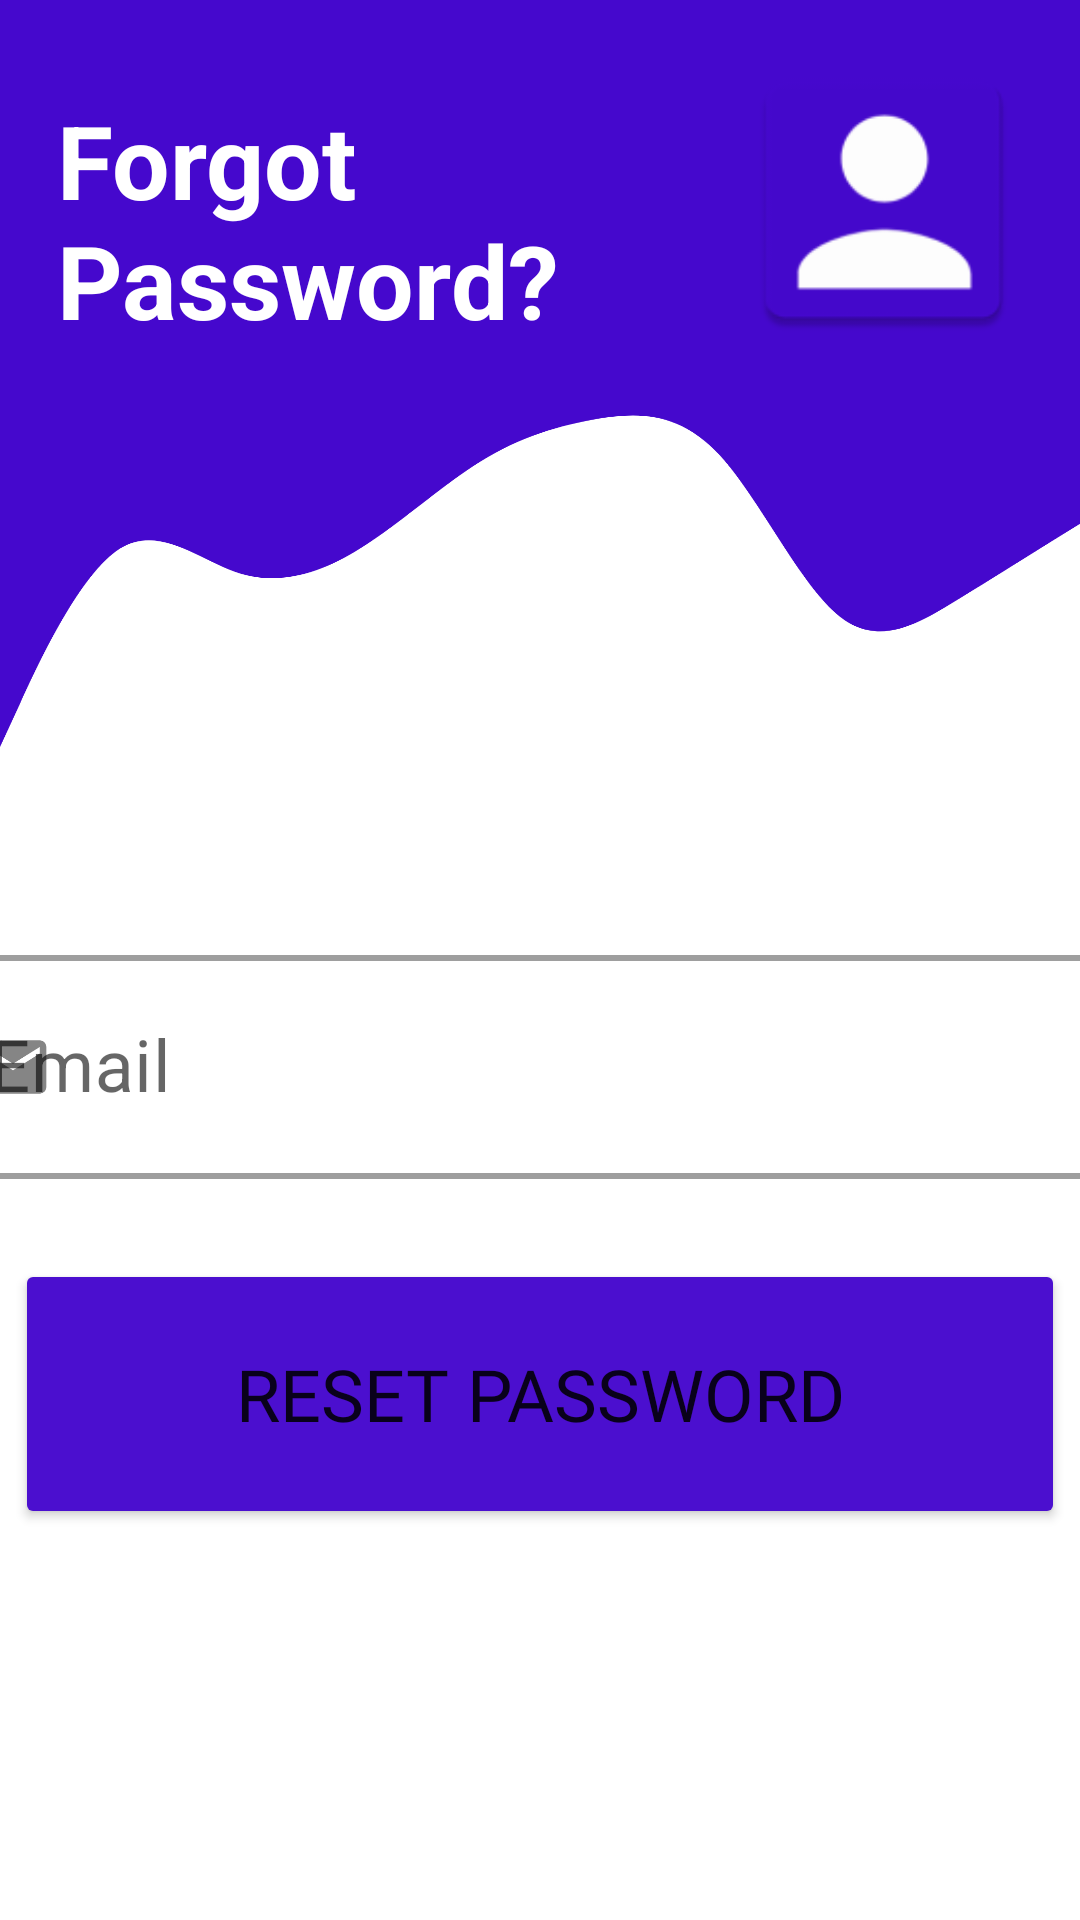

Icon click points for this 1080w x 1920h phone screenshot, format (x=x, y=y):
profile: (x=884, y=219)
